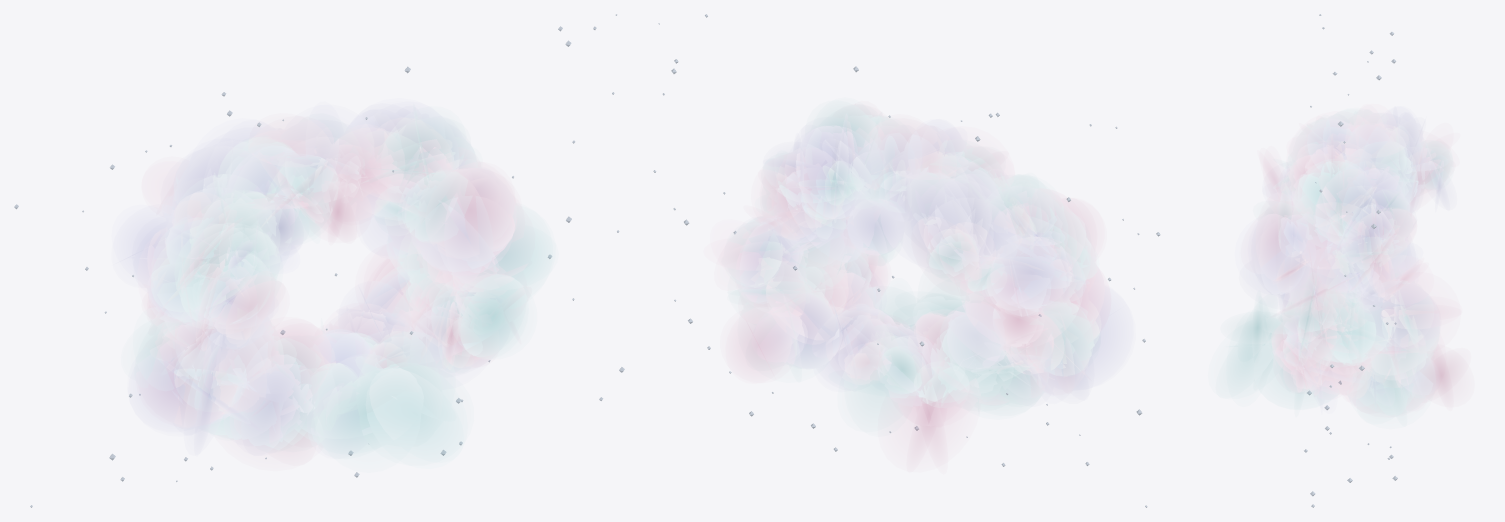
3 renders of one model, left to right at view 1: azimuth 30°, elevation 25°; view 2: azimuth 150°, elevation 25°; view 3: azimuth 270°, elevation 25°, orthographic. The views are drawn at different scales.
Bounding box in the file's own units: 5.91 × 4.06 × 3.13.
